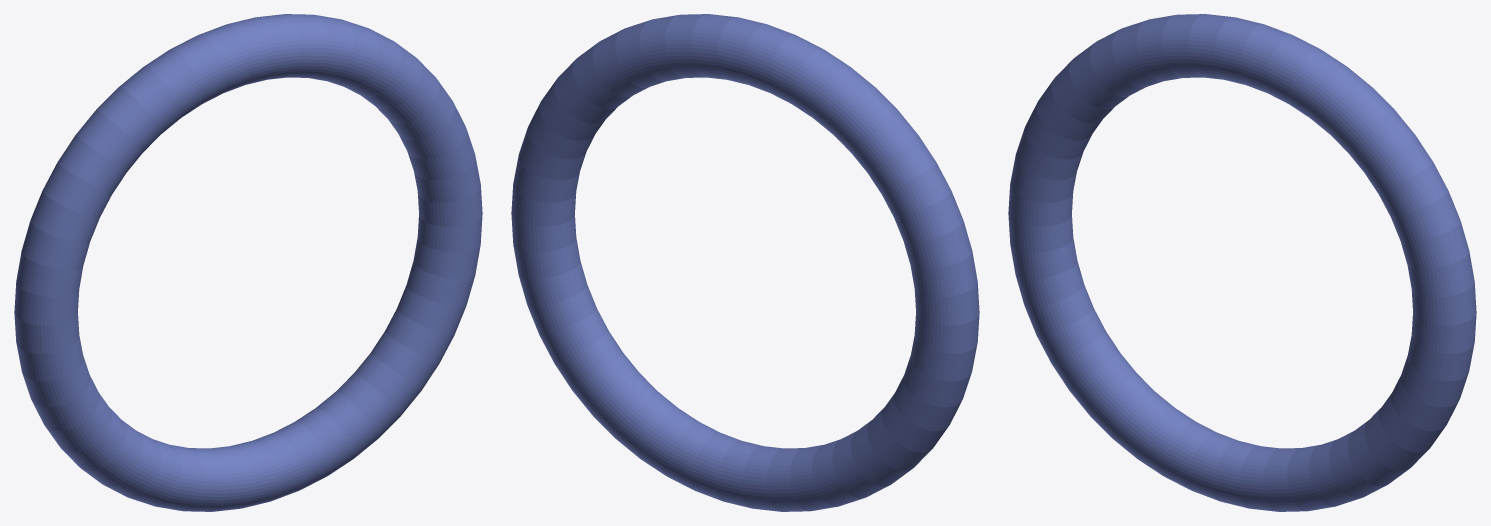
The picture shows the model from 3 angles, left to right: view 1: azimuth 30°, elevation 25°; view 2: azimuth 150°, elevation 25°; view 3: azimuth 330°, elevation 25°; orthographic projection.
Parts seen in each view (by area): view 1: world; view 2: world; view 3: world.
Part boxes in pixels (x1,y1,x2,y2): world: (14, 14, 482, 511); world: (511, 14, 979, 511); world: (1008, 14, 1476, 511).
Size of the model in its own units: 18.93 by 18.9 by 2.26.
